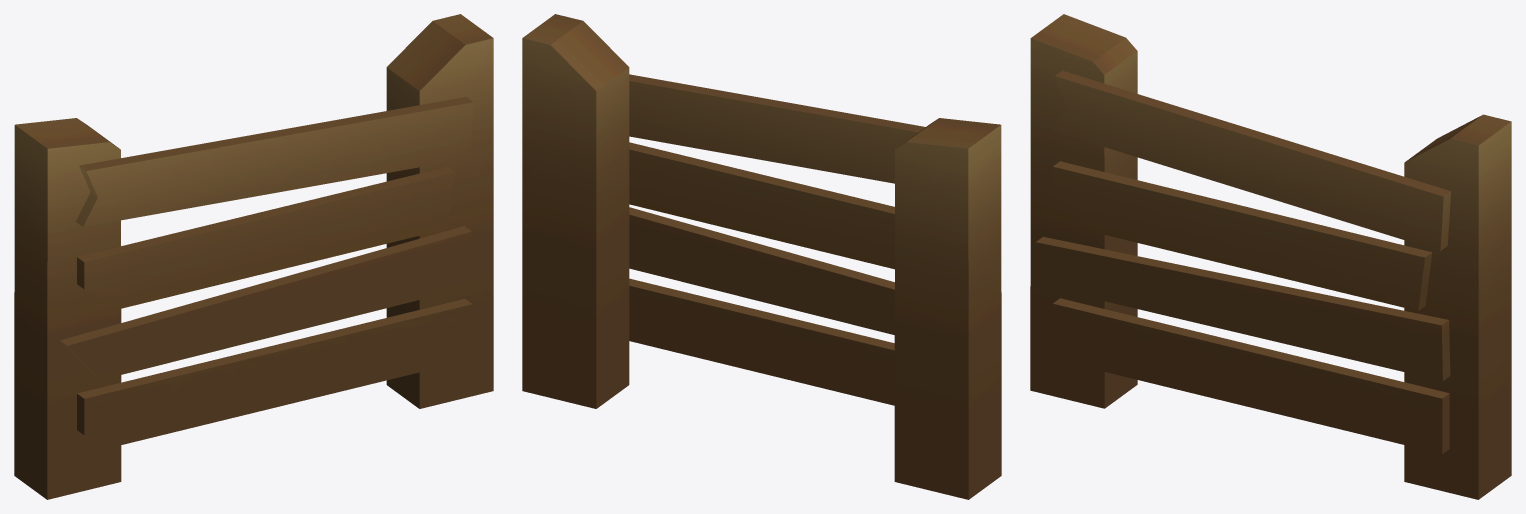
File: pack04_fences_15.fbx
3 renders of one model, left to right at view 1: azimuth 30°, elevation 25°; view 2: azimuth 150°, elevation 25°; view 3: azimuth 330°, elevation 25°, orthographic.
Parts seen in each view (by area): view 1: Small_Fence_02; view 2: Small_Fence_02; view 3: Small_Fence_02.
Boxes of the visible parts, x1,y1,x2,y2 form: Small_Fence_02: [14, 14, 493, 499]; Small_Fence_02: [522, 14, 1001, 499]; Small_Fence_02: [1030, 14, 1511, 499].
Size of the model in its own units: 35.97 by 27.18 by 5.63.
1 material, 1 textured.
